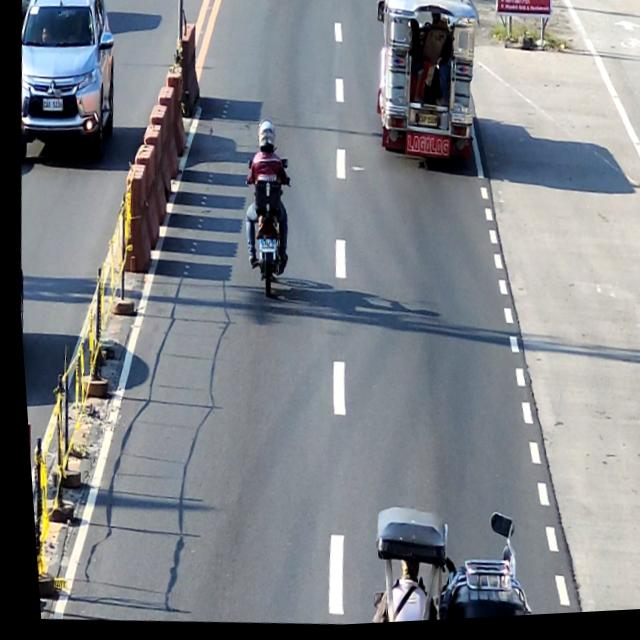Car: (11, 0, 124, 155)
Jeep: (362, 0, 487, 173)
License-Plate: (414, 116, 436, 132), (39, 98, 62, 113), (255, 240, 272, 256)
Motorcycle: (233, 154, 295, 304)
Tricycle: (358, 505, 530, 627)
